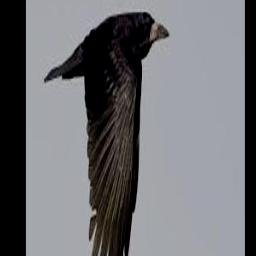Crow: (45, 11, 170, 256)
